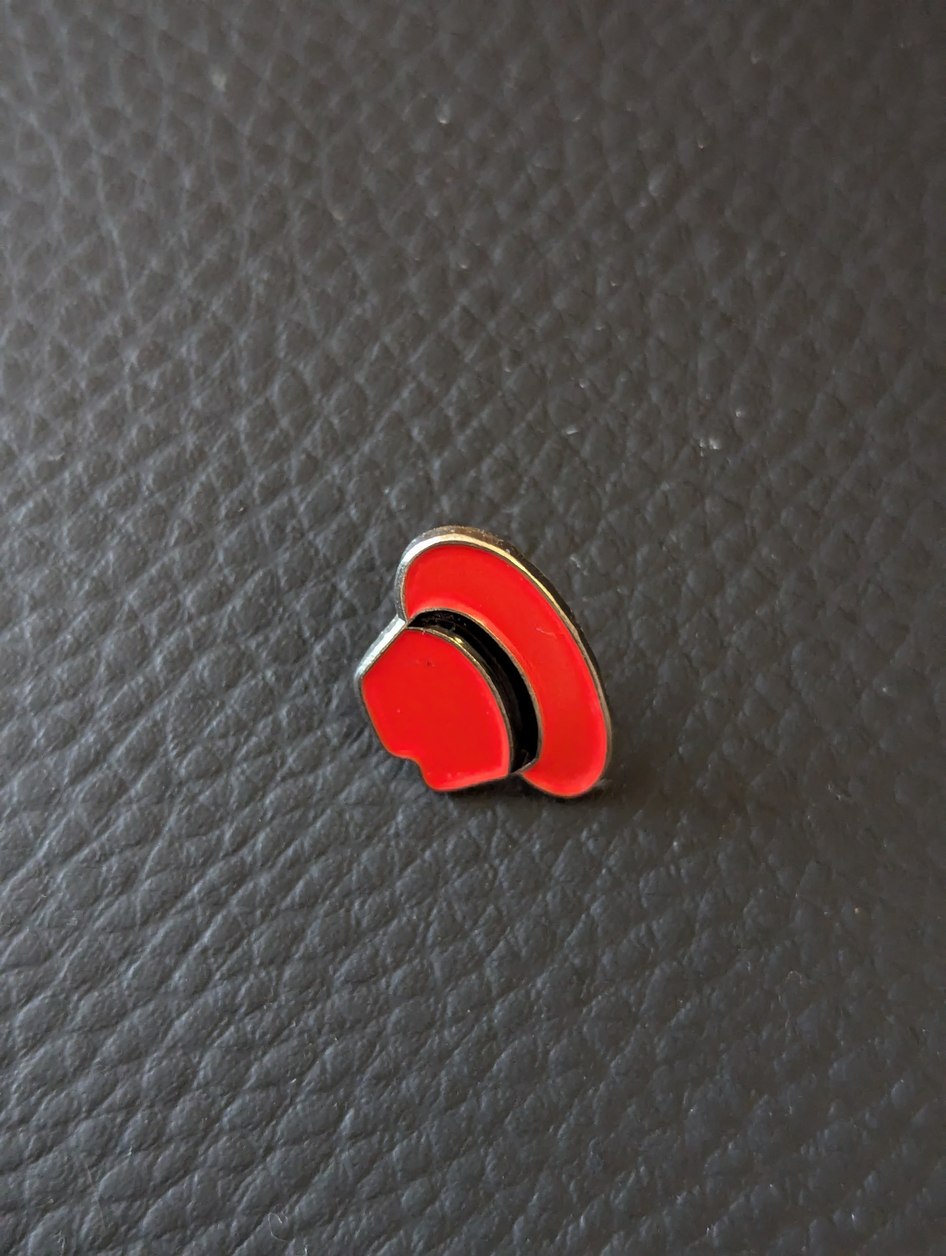Red-Hat: (245, 421, 727, 910)
